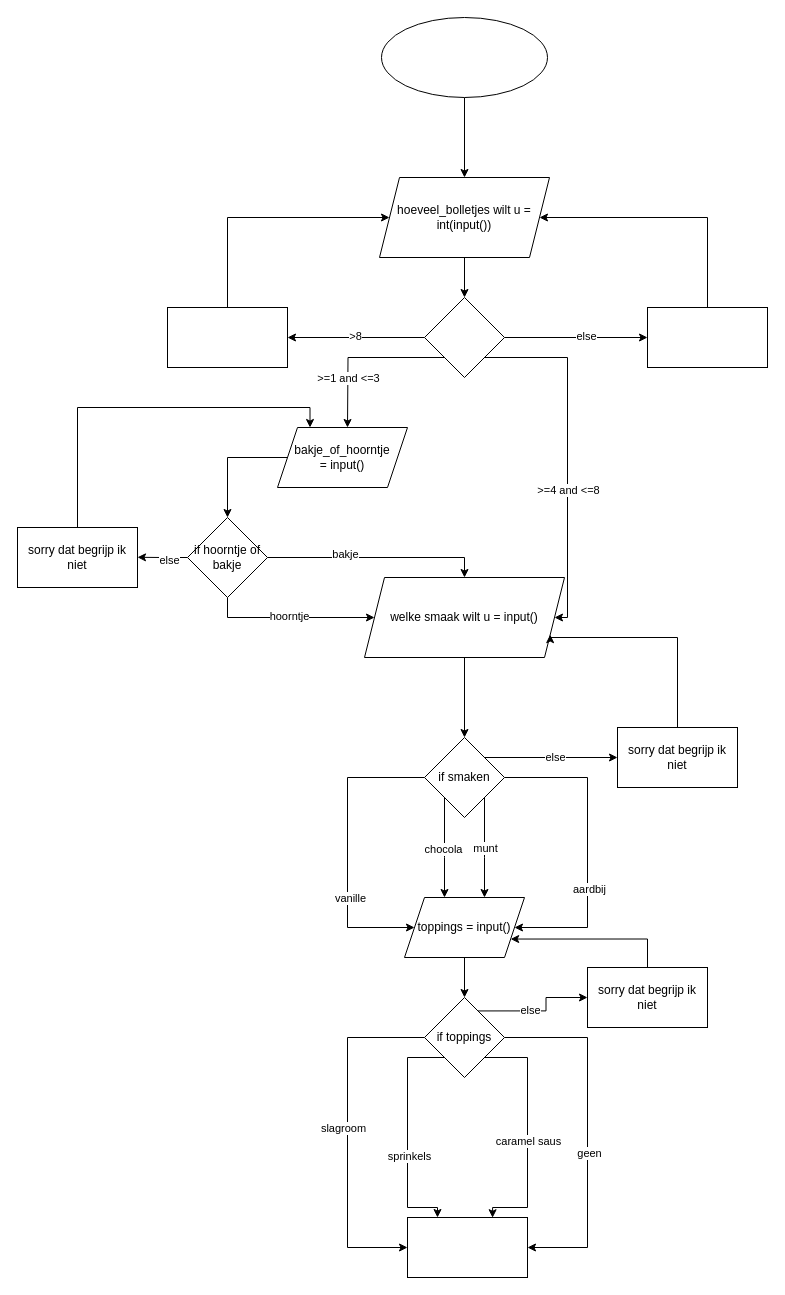
Some shapes in this 785 by 1295 pixel diagram are drawn without their labels. Each missing label, with the box of its shape:
if hoeveel bolletjes: (424, 296, 504, 378)
print('Sorry dat begrijp ik niet'): (646, 306, 768, 368)
print('Sorry zulke grote bakken hebben we niet'): (166, 306, 288, 368)
print(bonnetje): (406, 1216, 528, 1278)
start programma: (380, 16, 548, 98)
